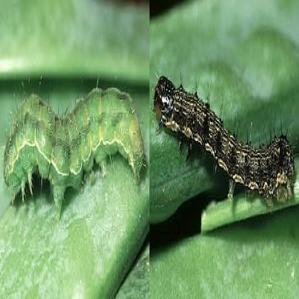Cotton bollworm: (150, 64, 298, 234), (0, 67, 150, 226)
